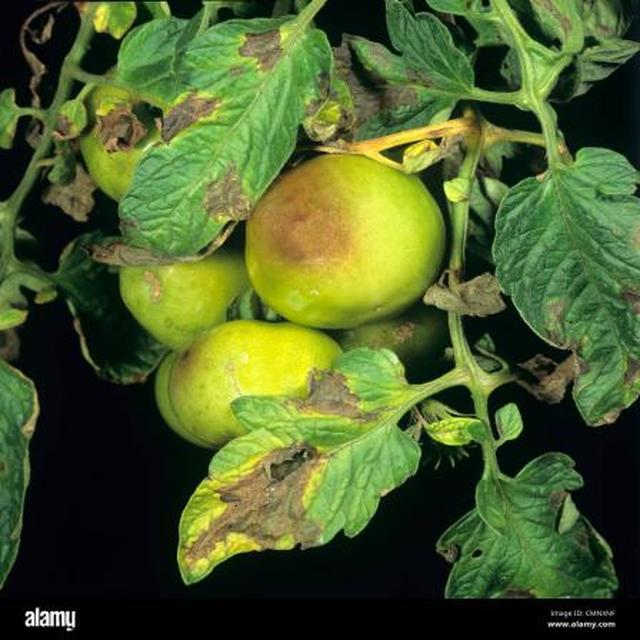Early Blight Leaf: (215, 198, 640, 640)
